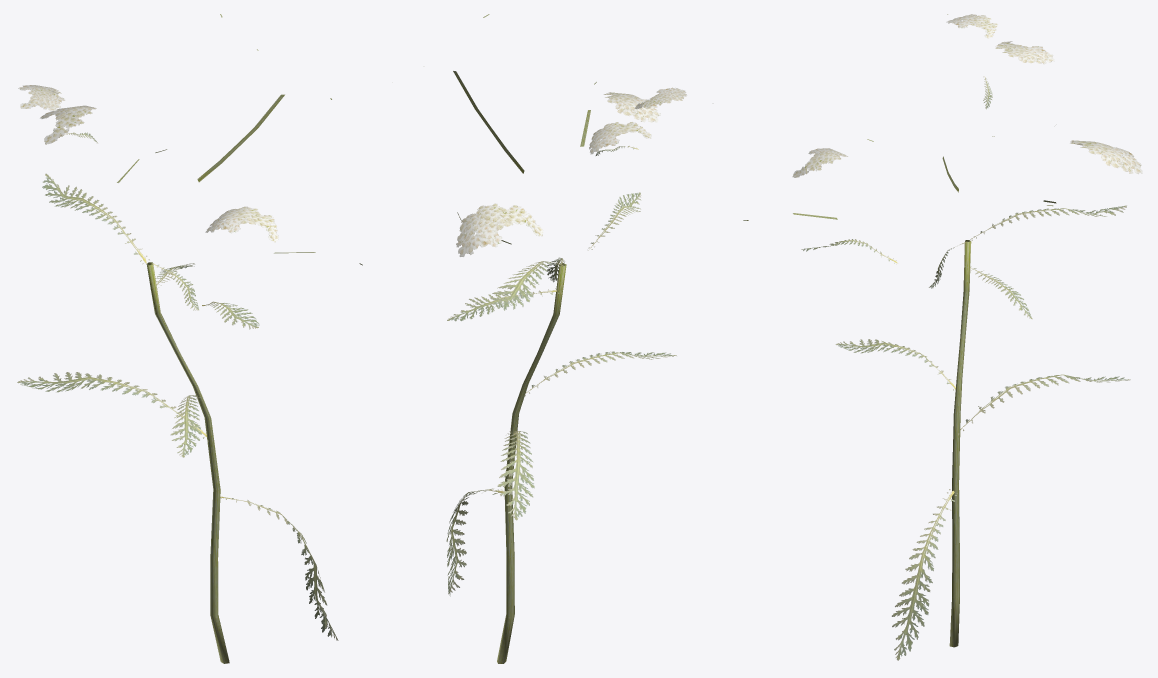
Rendered from flower_white_lod1.glb.
The picture shows the model from 3 angles, left to right: view 1: azimuth 30°, elevation 25°; view 2: azimuth 150°, elevation 25°; view 3: azimuth 270°, elevation 25°; orthographic projection. The views are drawn at different scales.
Visible parts, largest first — view 1: bq_Flower_Achillea-millefolium_D_spring-summer; view 2: bq_Flower_Achillea-millefolium_D_spring-summer; view 3: bq_Flower_Achillea-millefolium_D_spring-summer.
Part boxes in pixels (box(x1,y1,x2,y2)): bq_Flower_Achillea-millefolium_D_spring-summer: box(17, 14, 362, 663); bq_Flower_Achillea-millefolium_D_spring-summer: box(446, 14, 686, 663); bq_Flower_Achillea-millefolium_D_spring-summer: box(743, 14, 1142, 660).
Size of the model in its own units: 0.1565 by 0.314 by 0.2073.
Materials: 3 (3 with a texture image).
